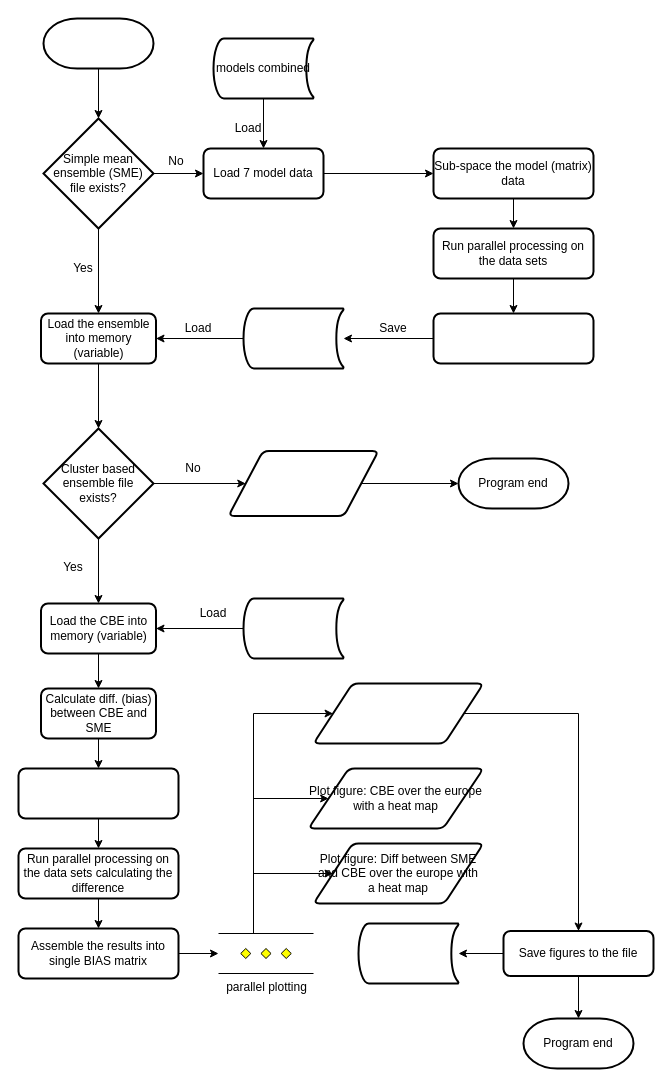
This 671x1086 diagram has some shape labels left out. The box of each missing label's shape, as (x1, y1, x2, y2) in pixels:
Assemble the results into single matrix (variable): (432, 312, 594, 364)
cluster based ensemble: (242, 597, 344, 659)
observation figures: (357, 922, 459, 984)
Output the error: missing CBE: (227, 450, 379, 516)
Plot figure: SME over the europe with a heat map: (312, 682, 484, 744)
Program start: (42, 17, 154, 69)
simple mean ensemble: (242, 307, 344, 369)
Sub-space the CBE and SME (matrix) data for bias calculation: (17, 767, 179, 819)
